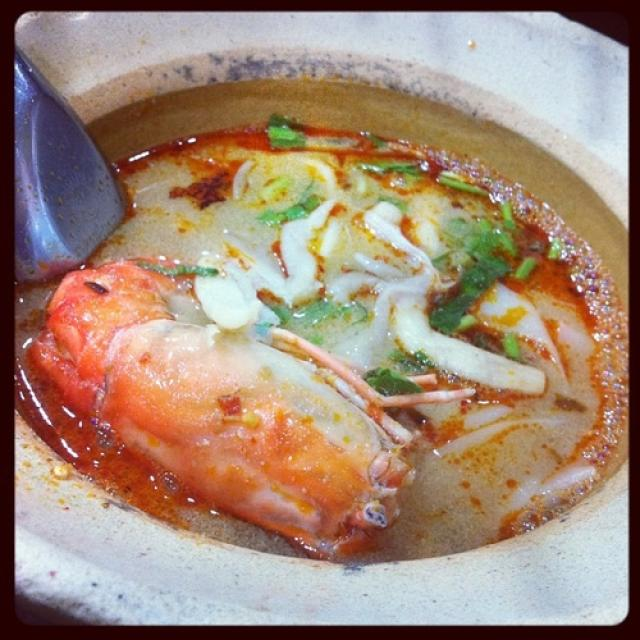汤锅炖物: (22, 26, 612, 608)
